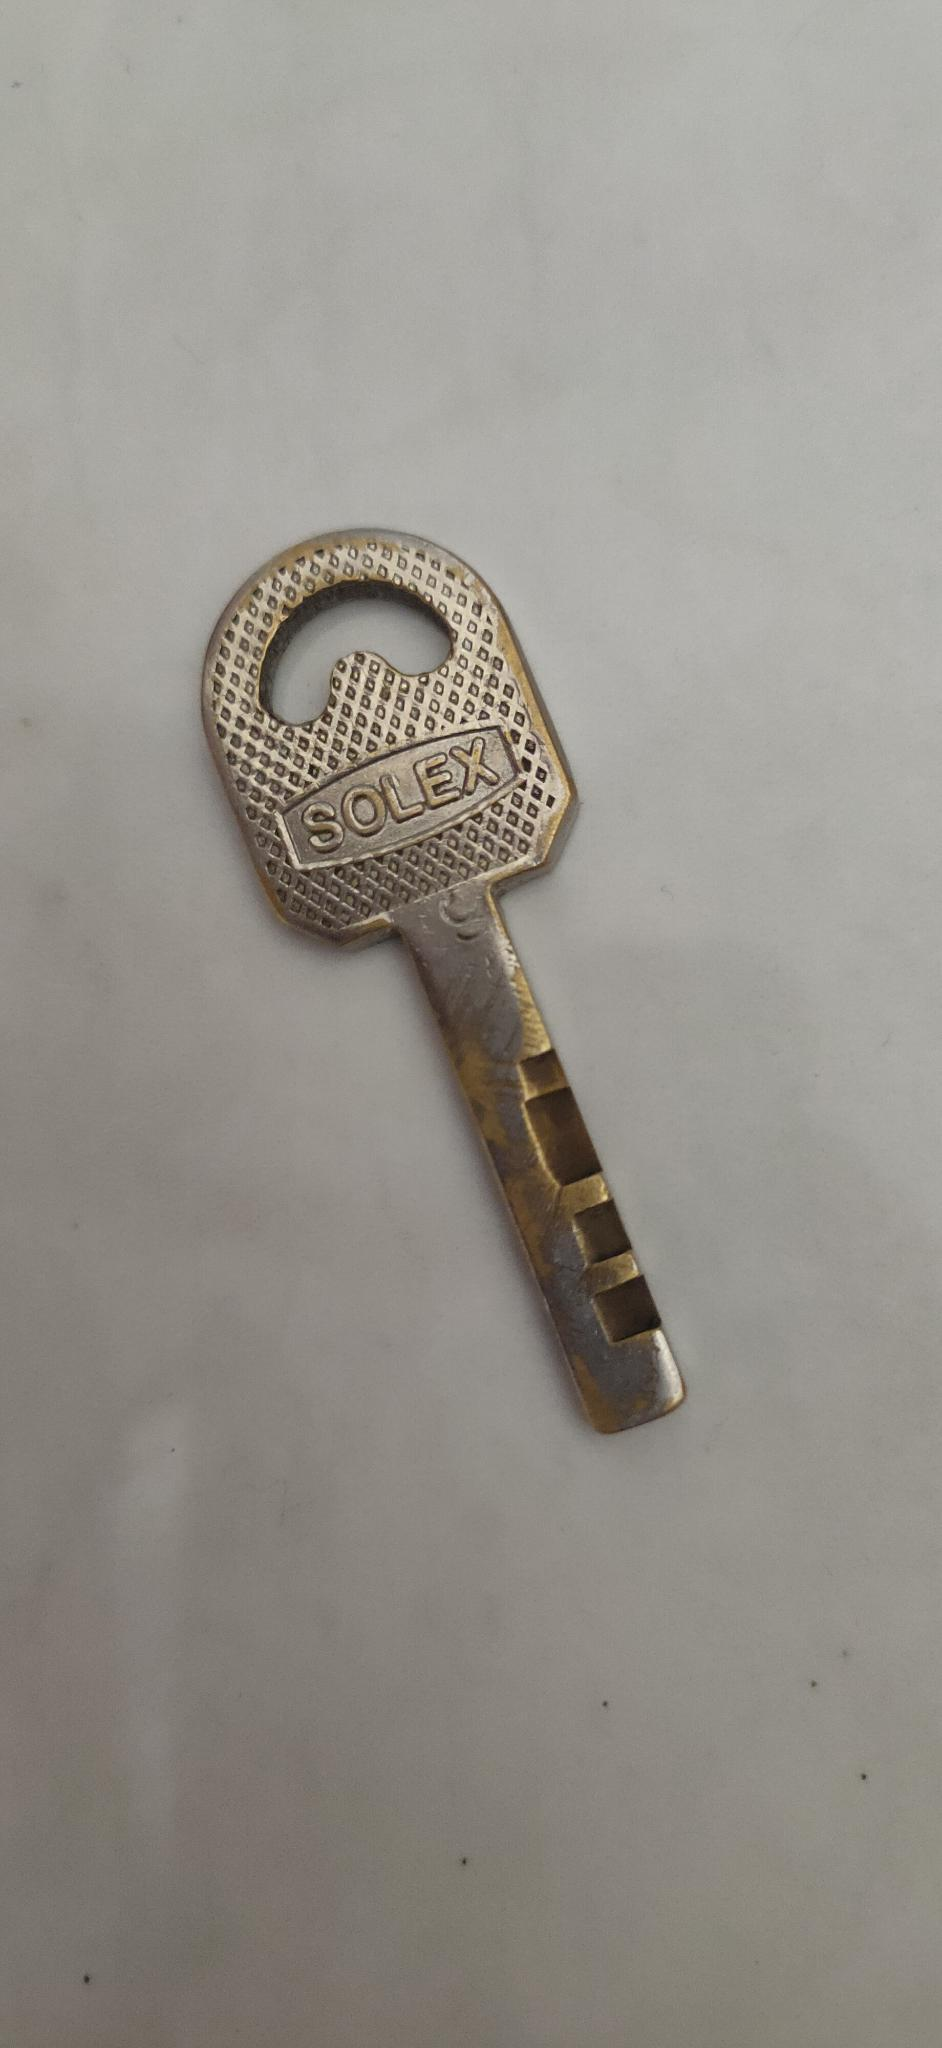keys: (182, 498, 733, 1469)
